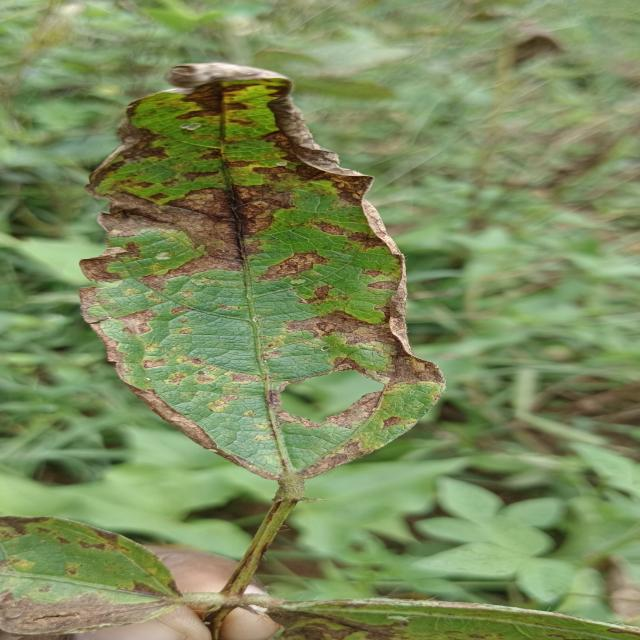Black gram_leaf spot: (70, 59, 457, 484), (0, 510, 197, 640), (255, 593, 640, 640)
